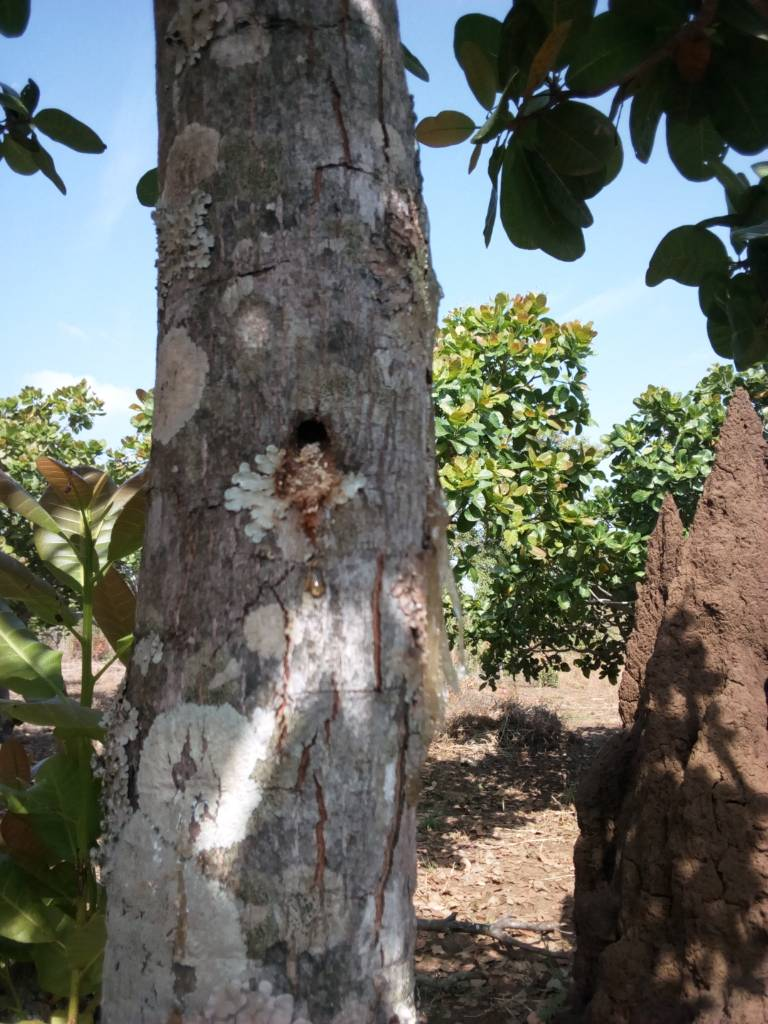Apate terebrans: (265, 390, 364, 487)
